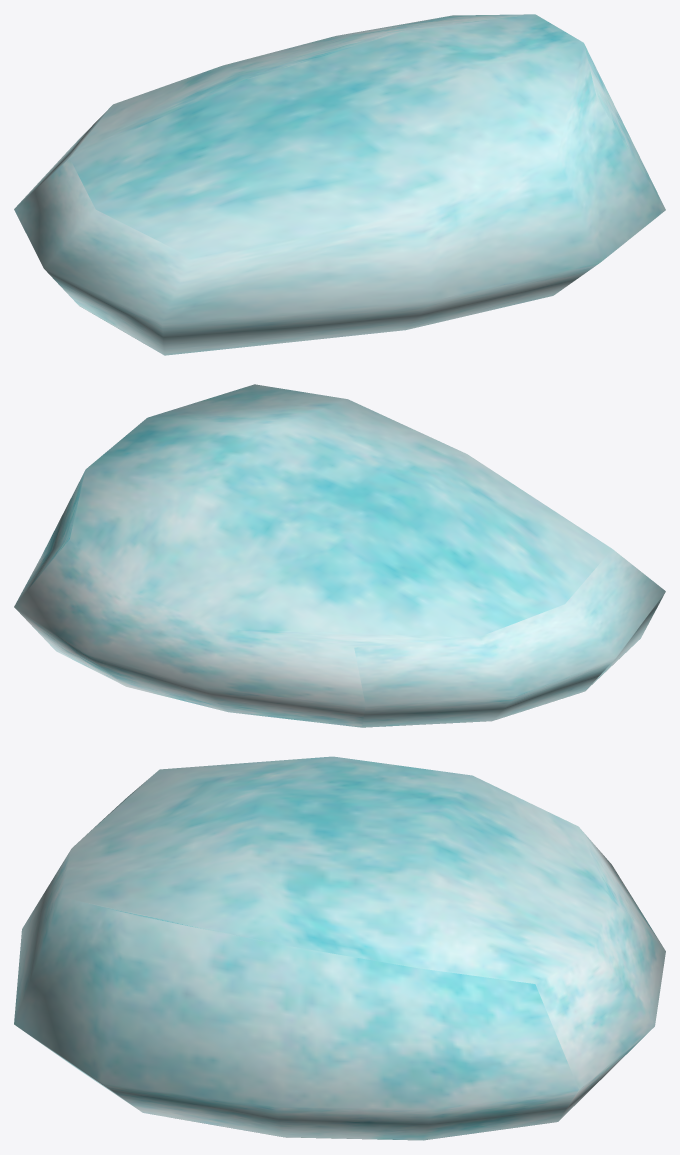
File: SmallIce_K.fbx
The picture shows the model from 3 angles, top to bottom: view 1: azimuth 30°, elevation 25°; view 2: azimuth 150°, elevation 25°; view 3: azimuth 270°, elevation 25°; orthographic projection. The views are drawn at different scales.
Parts seen in each view (by area): view 1: pCube1; view 2: pCube1; view 3: pCube1.
Boxes of the visible parts, left/top/right/bottom form: pCube1: left=14, top=14, right=665, bottom=355; pCube1: left=14, top=384, right=665, bottom=727; pCube1: left=14, top=756, right=665, bottom=1140.
Bounding box in the file's own units: 3.04 × 1.04 × 2.54.
Materials: 1 (1 with a texture image).
